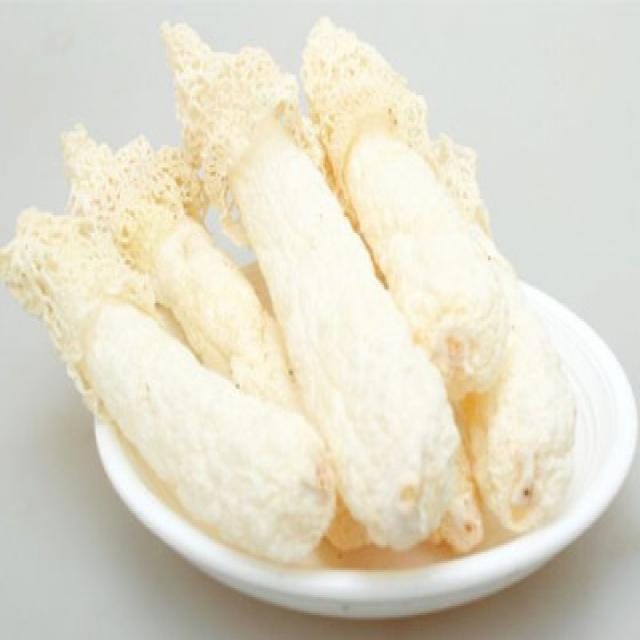Dictyophora indusiate: (155, 21, 458, 550), (0, 209, 334, 561), (286, 23, 507, 396), (61, 125, 300, 413), (420, 138, 572, 526)
